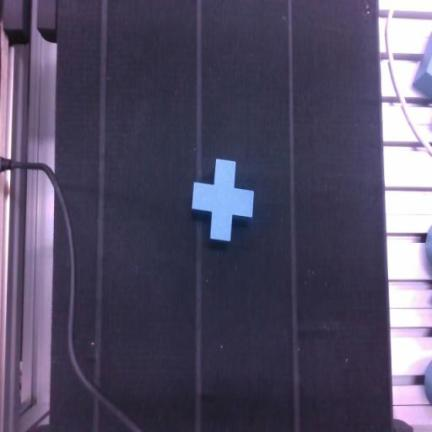cross: (193, 159, 253, 241)
